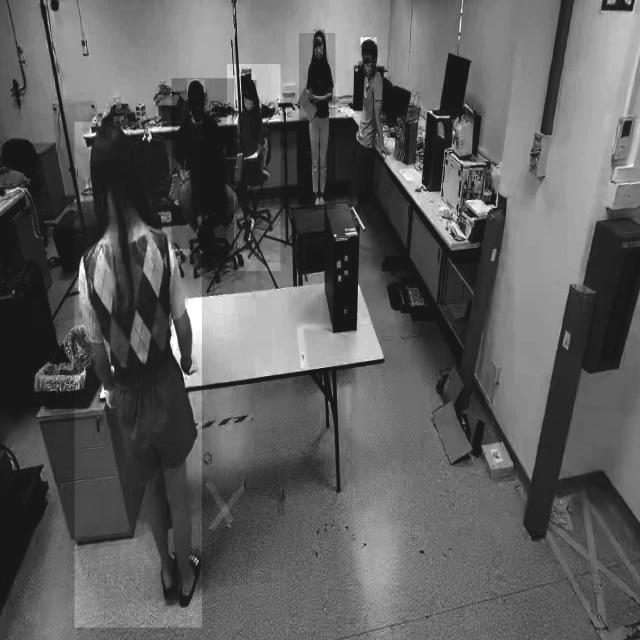face_mask: (312, 39, 326, 69), (240, 94, 254, 115), (358, 62, 376, 78)
face_nomask: (189, 97, 205, 120)
hand_noglove: (377, 142, 392, 158), (309, 92, 320, 104), (181, 170, 191, 182), (325, 82, 333, 94)
head_nohelmet: (90, 123, 130, 161), (187, 79, 205, 94), (361, 37, 377, 50), (241, 80, 257, 92), (313, 29, 325, 39)
person: (74, 122, 202, 628), (227, 64, 281, 272), (172, 78, 234, 249), (350, 40, 394, 213), (299, 33, 336, 211)
